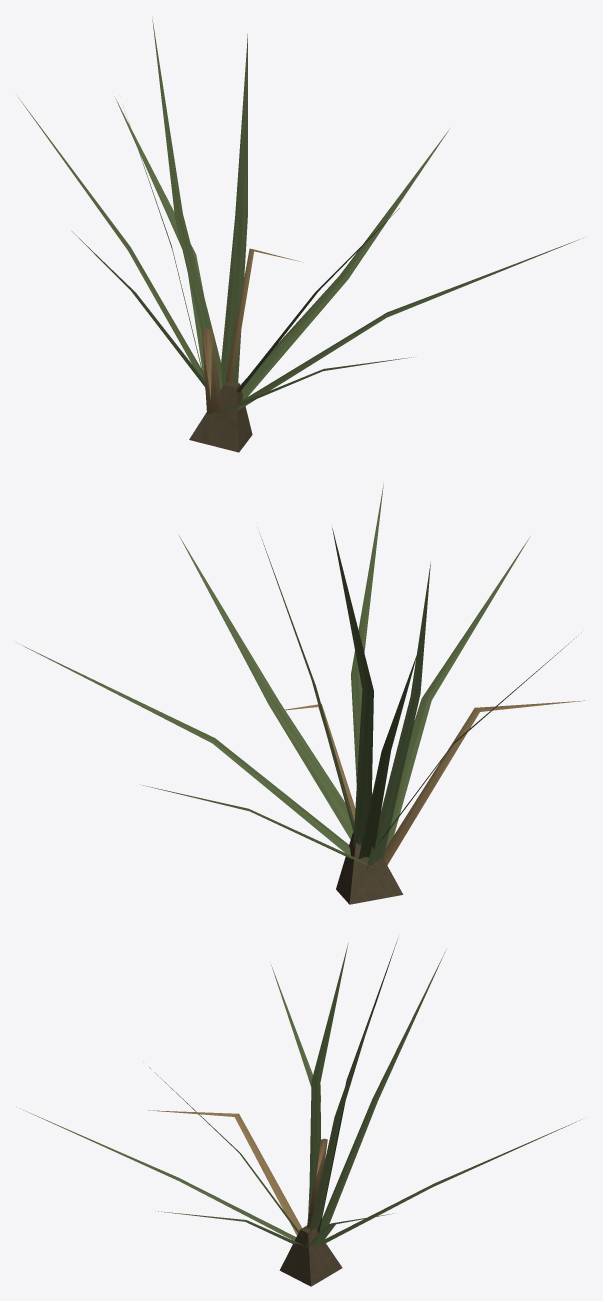
File: SM_CN_Yucca_B_LOD2.glb
3 renders of one model, top to bottom at view 1: azimuth 30°, elevation 25°; view 2: azimuth 150°, elevation 25°; view 3: azimuth 270°, elevation 25°, orthographic. The views are drawn at different scales.
Parts seen in each view (by area): view 1: SM_CN_Yucca_B_LOD2; view 2: SM_CN_Yucca_B_LOD2; view 3: SM_CN_Yucca_B_LOD2.
Boxes of the visible parts, x1,y1,x2,y2 form: SM_CN_Yucca_B_LOD2: [18, 16, 581, 452]; SM_CN_Yucca_B_LOD2: [16, 482, 584, 904]; SM_CN_Yucca_B_LOD2: [19, 939, 581, 1286].
Bounding box in the file's own units: 1.29 × 1.05 × 1.64.
Materials: 2 (2 with a texture image).
